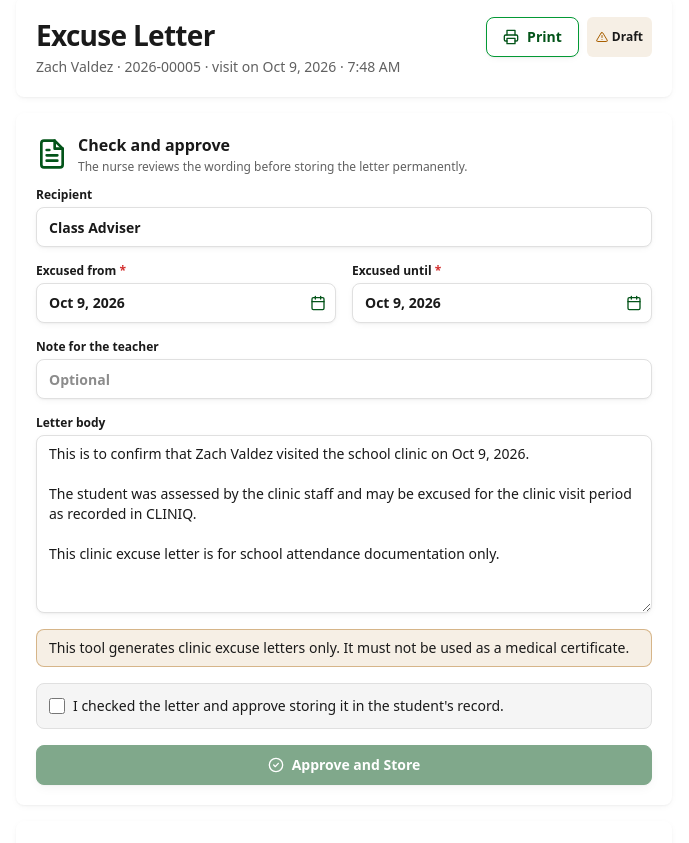
Scenario: Excuse Letter › requires nurse check before approval and writes an audit entry
The image size is (689, 843).
expect the heading "Excuse Letter" is shown: met, box top-left (36, 16), bottom-right (215, 54)
expect the button "Approve and Store" is disabled: met, box top-left (36, 745), bottom-right (652, 785)
What coordinates should you click on to do the following:
click the checkbox labelled "I checked the letter and approve storing it in the student's record"
I would click on:
 (57, 706)
Its box is top-left (49, 698), bottom-right (65, 714).
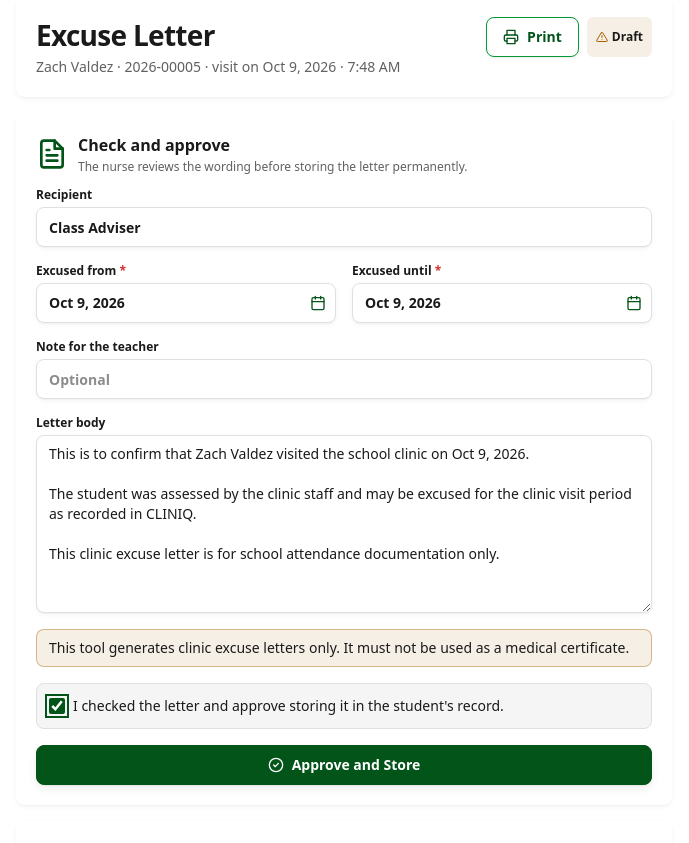
What coordinates should you click on to do the following:
click the button "Approve and Store"
I would click on:
 (344, 765)
Its box is top-left (36, 745), bottom-right (652, 785).
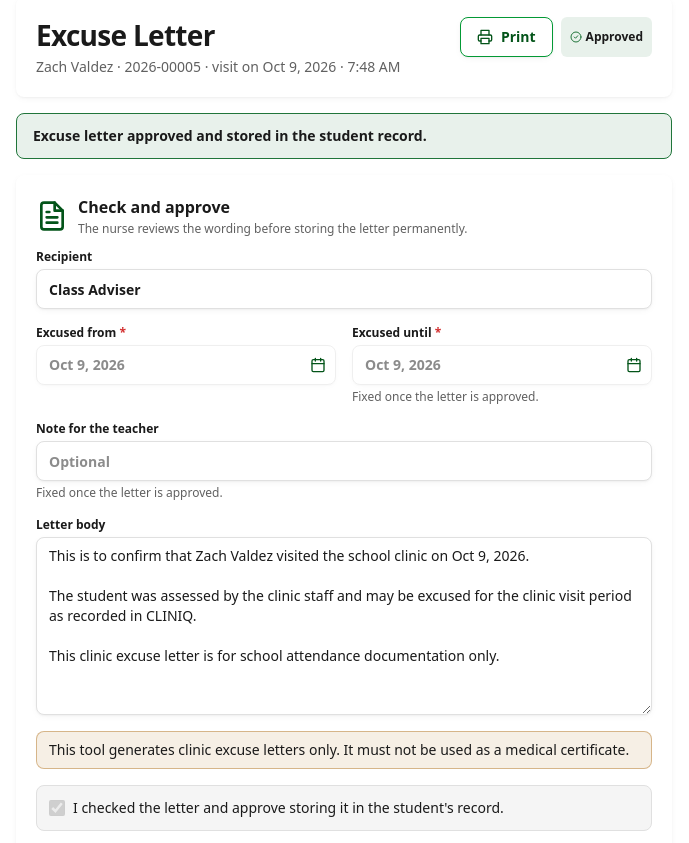
expect the text "Excuse letter approved and stored in the student record." is shown: met, box top-left (16, 113), bottom-right (672, 159)
